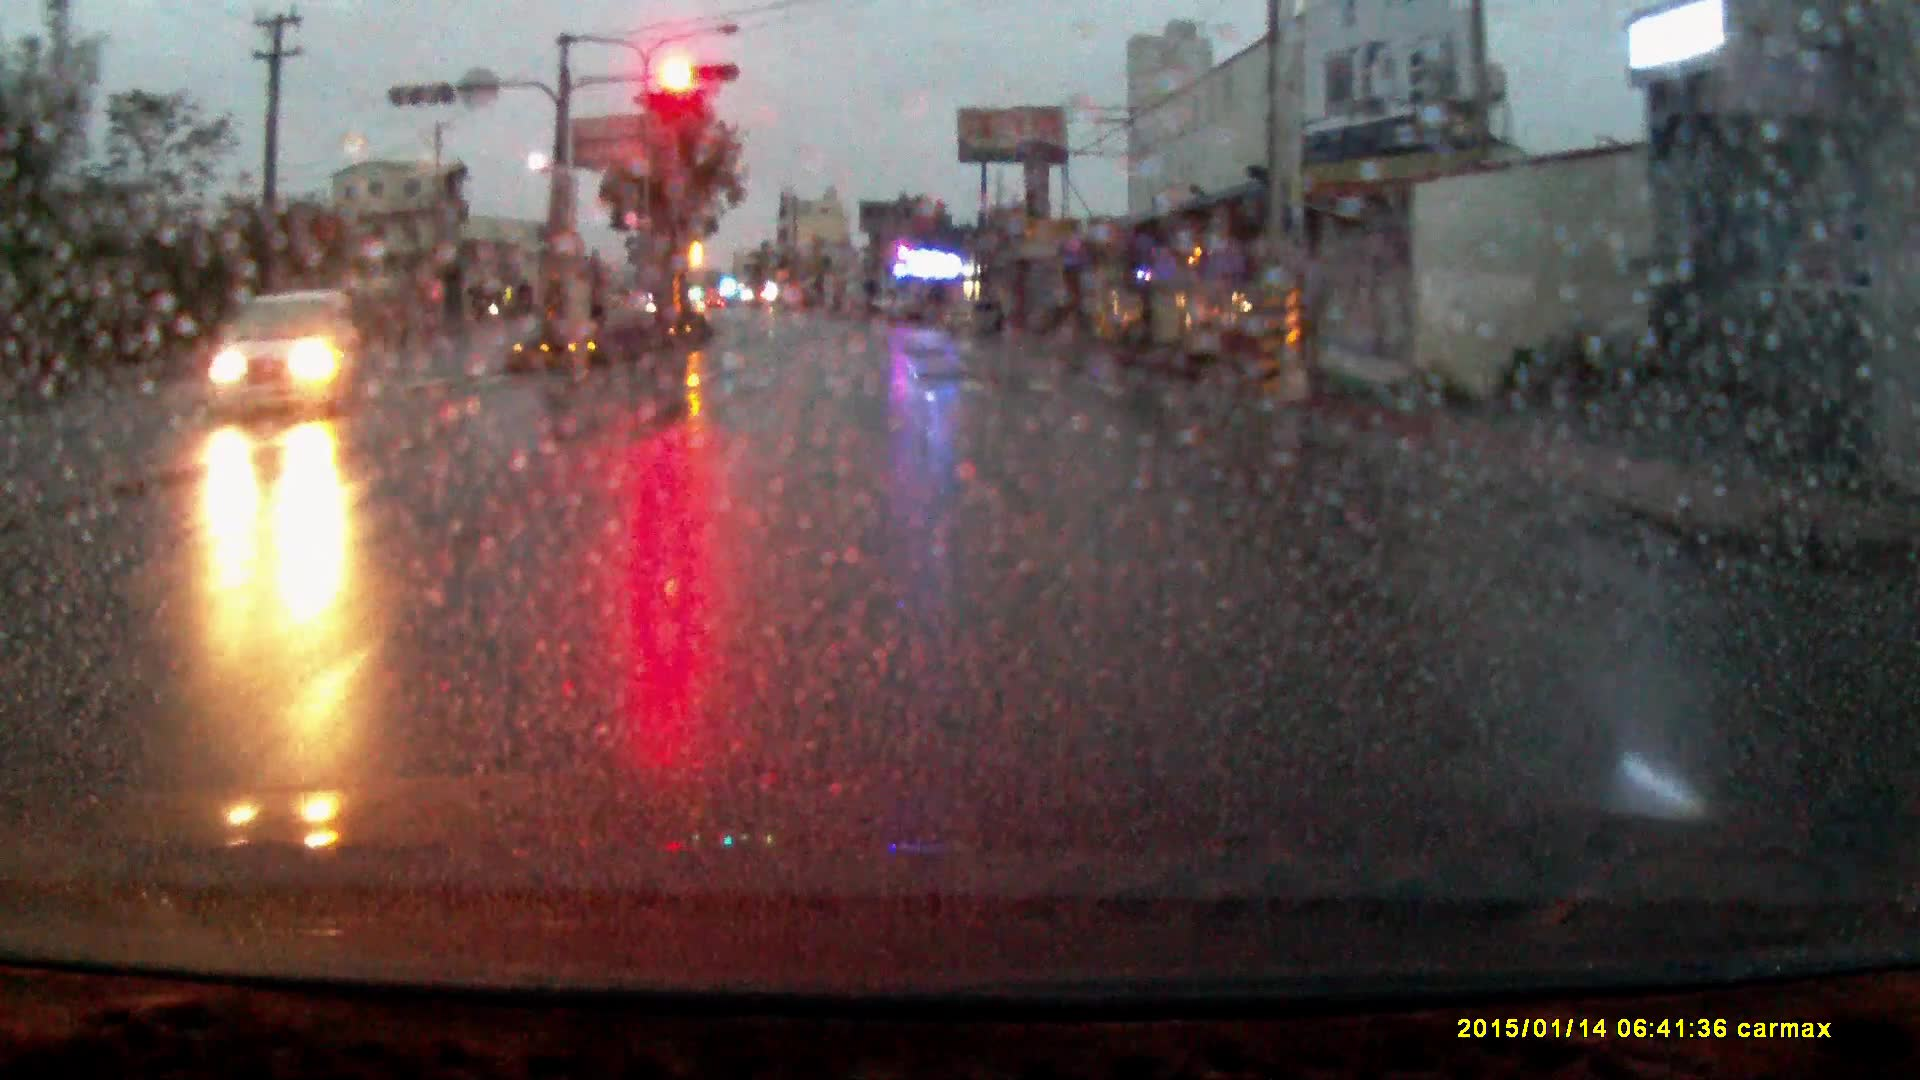vehicle: (198, 286, 361, 422)
